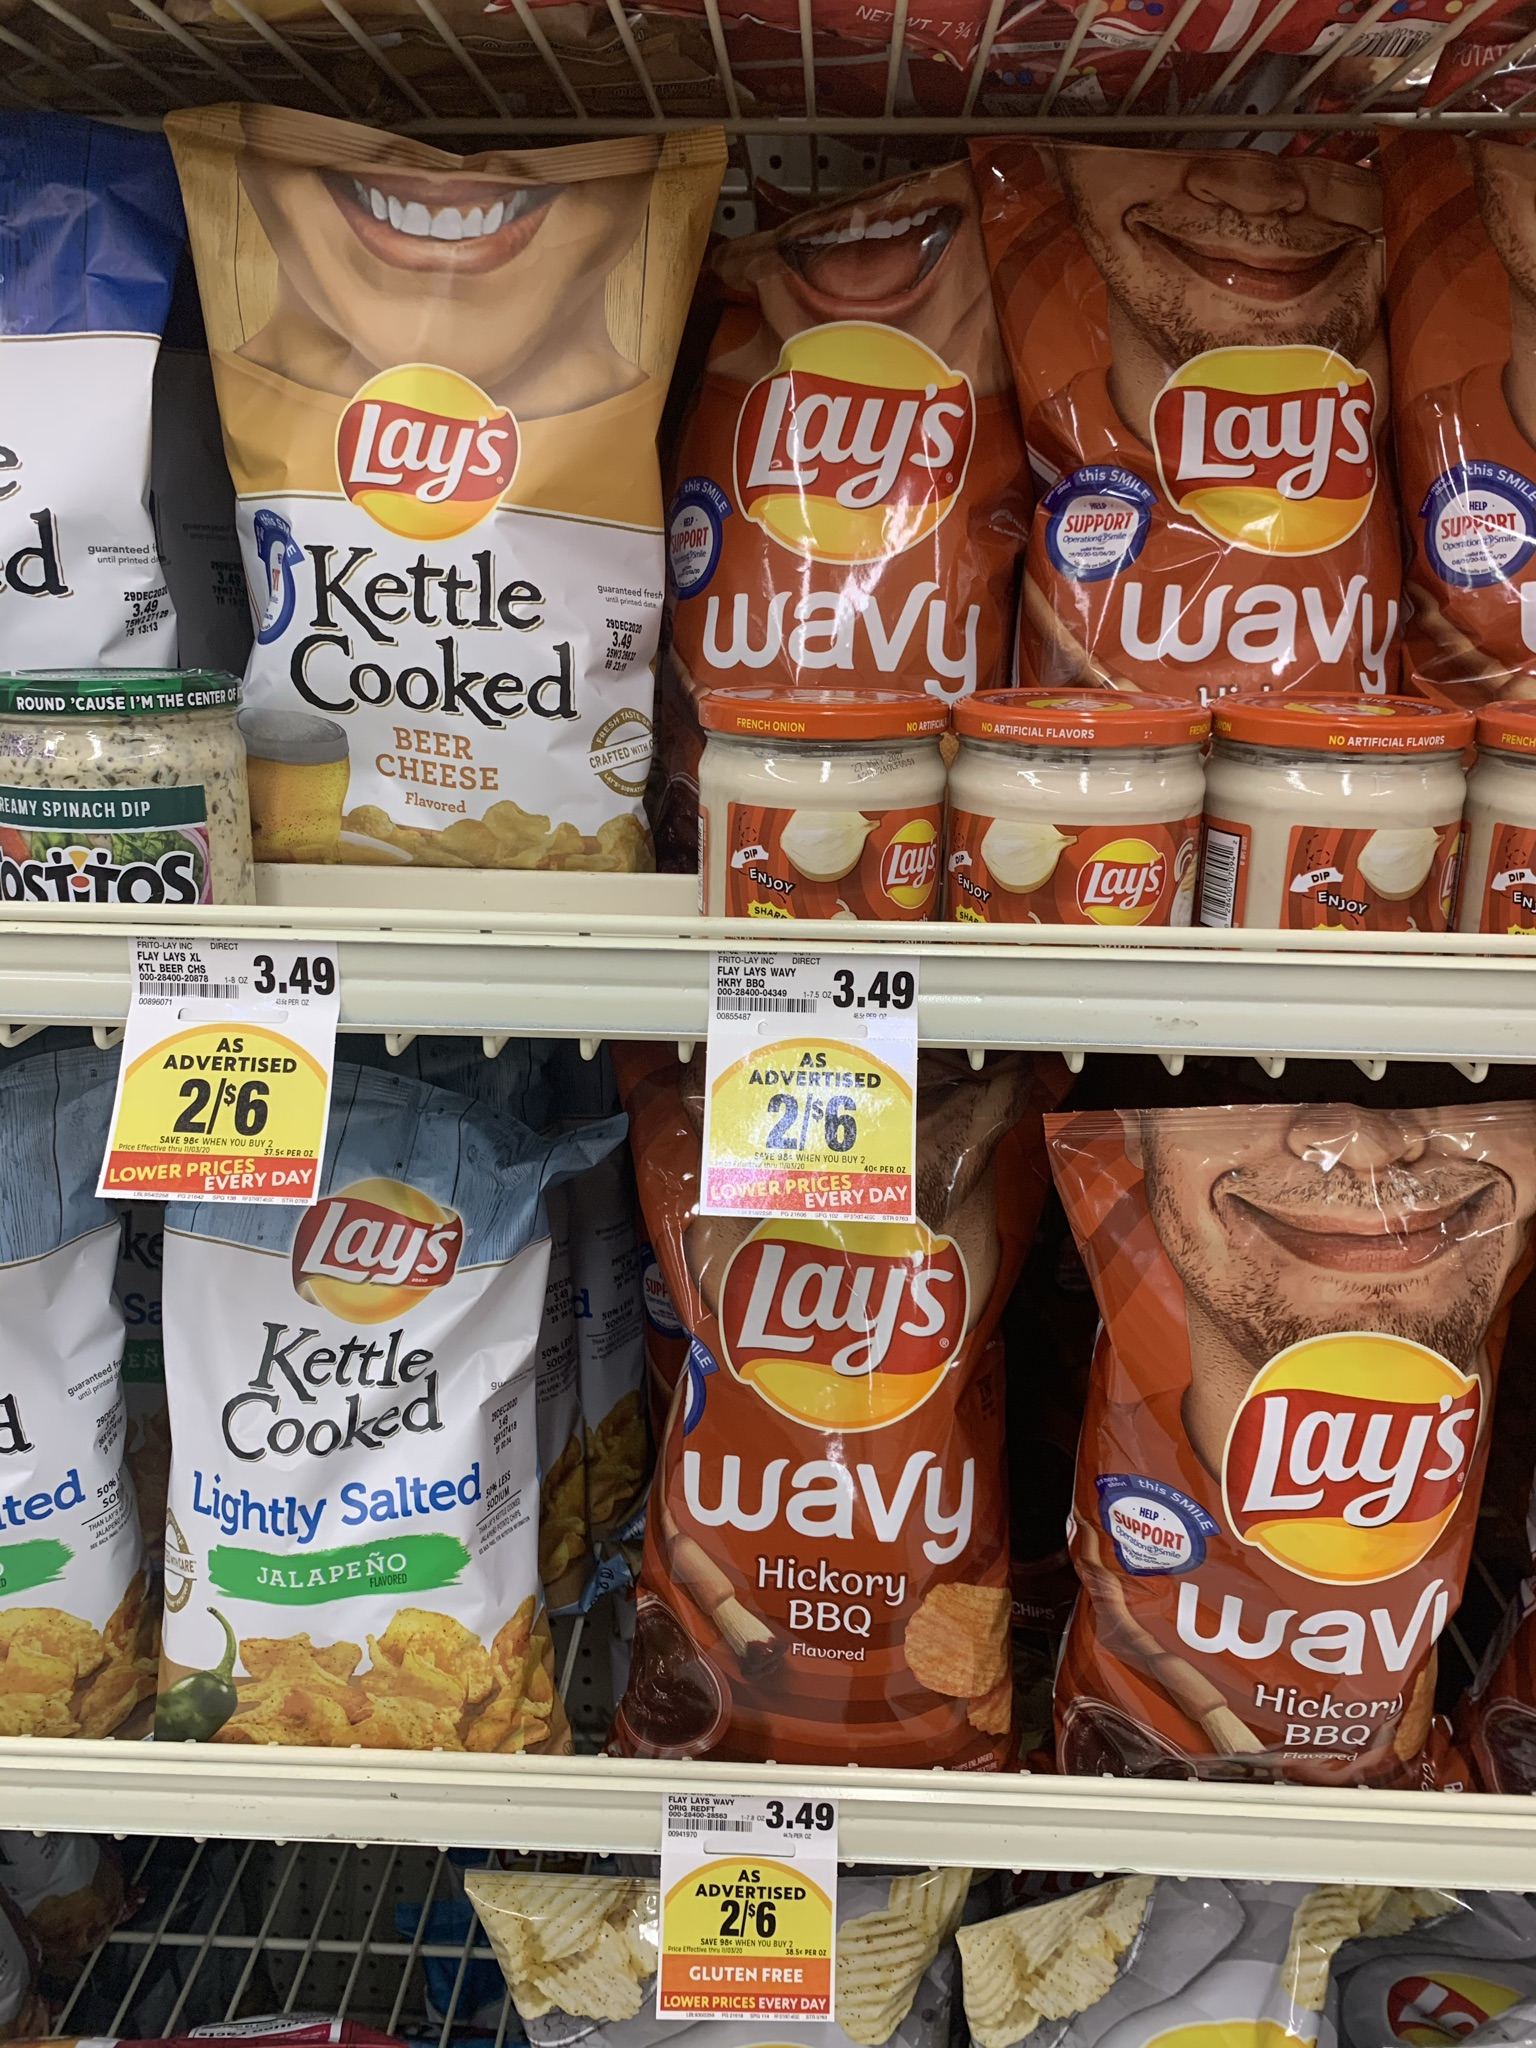lays: (192, 139, 644, 848), (1078, 1119, 1438, 1751), (202, 1047, 534, 1724), (989, 140, 1413, 664), (649, 1074, 997, 1706), (729, 224, 978, 706)
